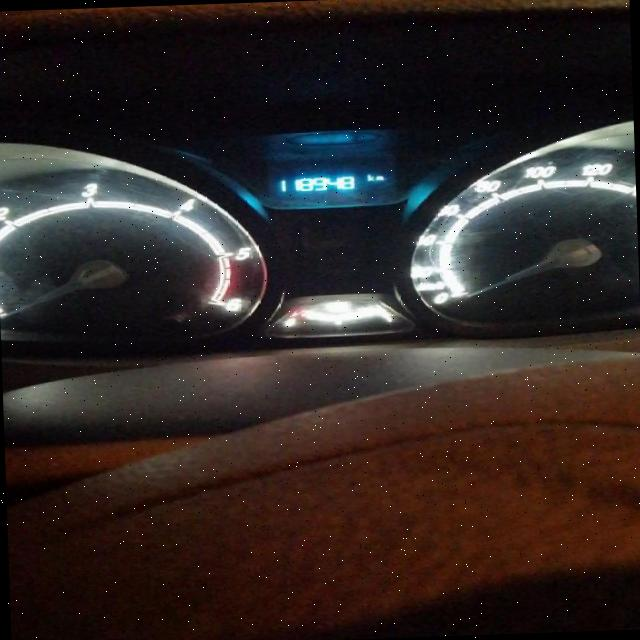odometer: (266, 151, 400, 202)
